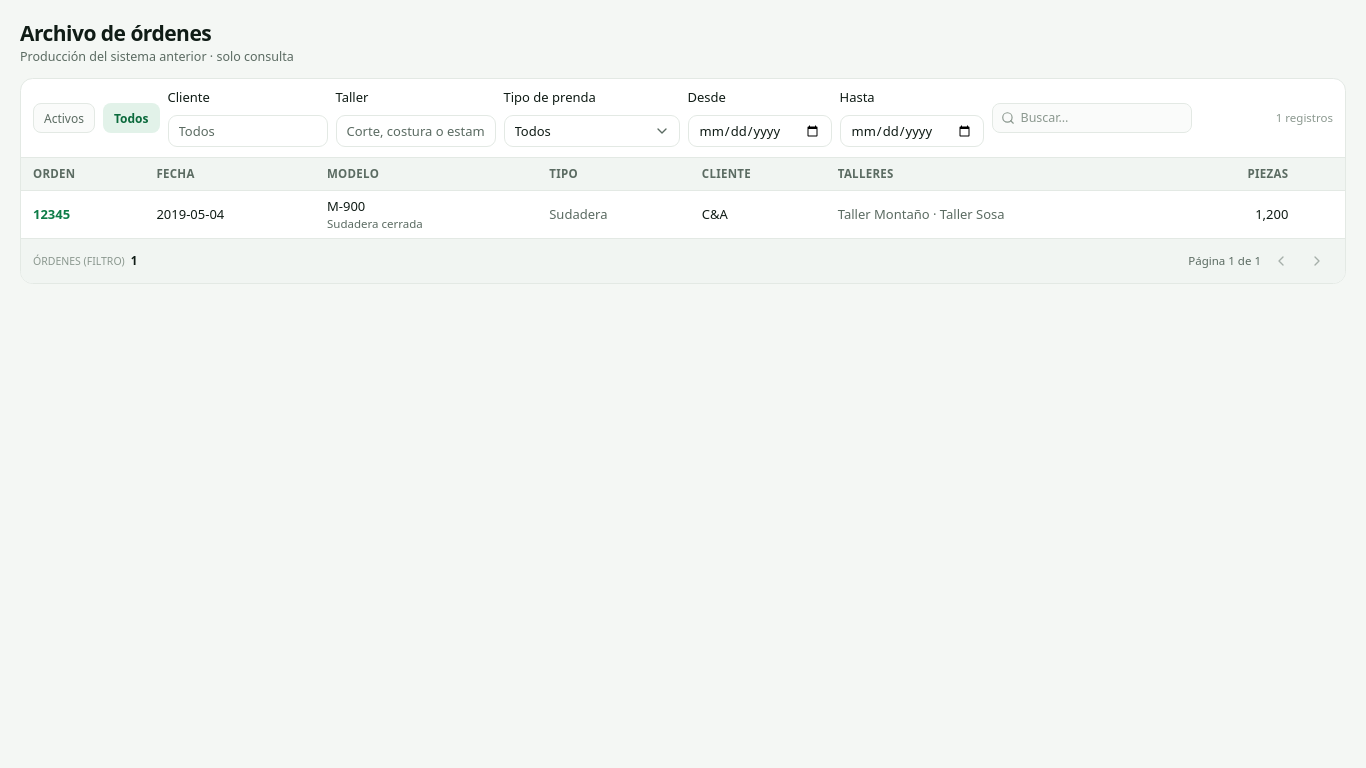
Test: <ArchivoOrdenesPagina> (§Post-F9.26) › el número de orden abre la ficha con la matriz y quién la trabajó
Step 1. Click the button with test id "abrir-orden-historica" → (52, 214), box [33,205,70,224]
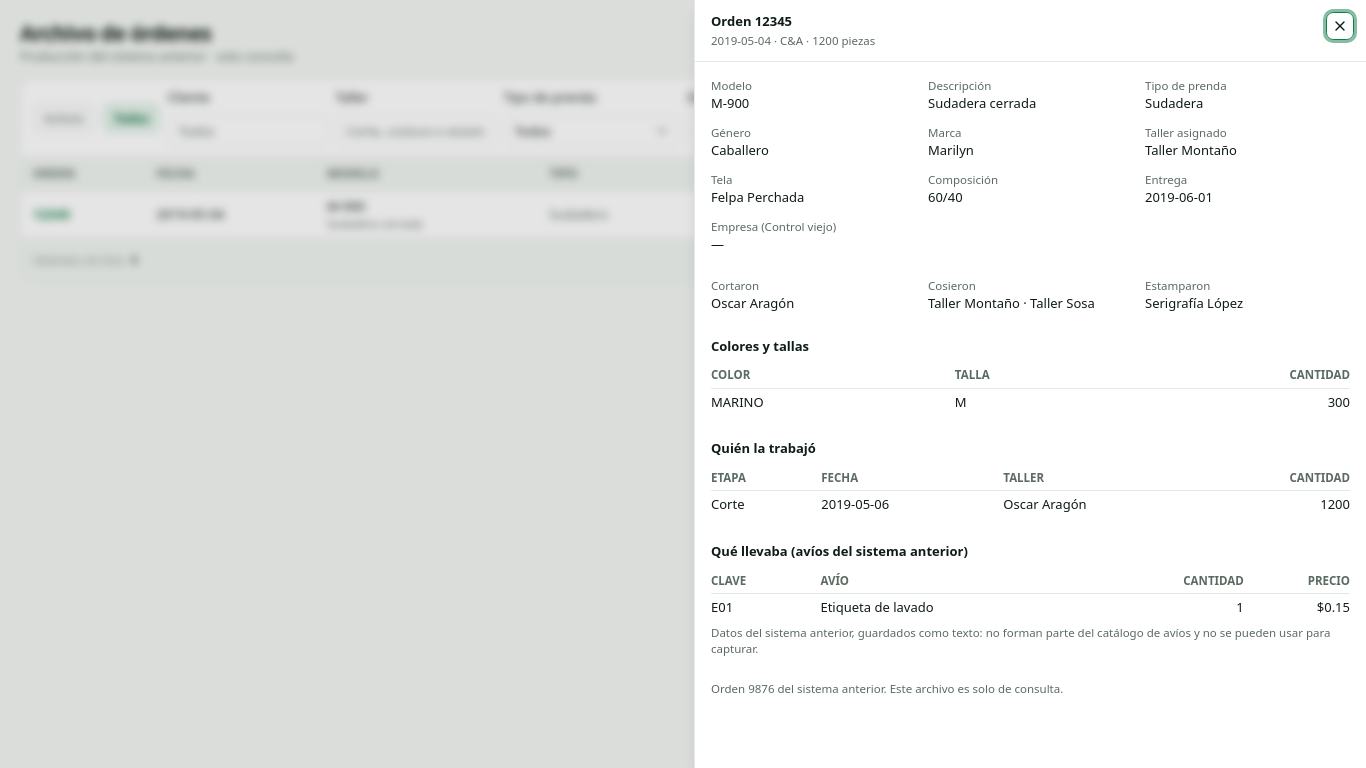
Now the heading "Colores y tallas" is shown, box [711,337,809,355]
Now the text "MARINO" is shown, box [711,388,955,415]
Now the text "Cortaron" is shown, box [711,278,759,293]
